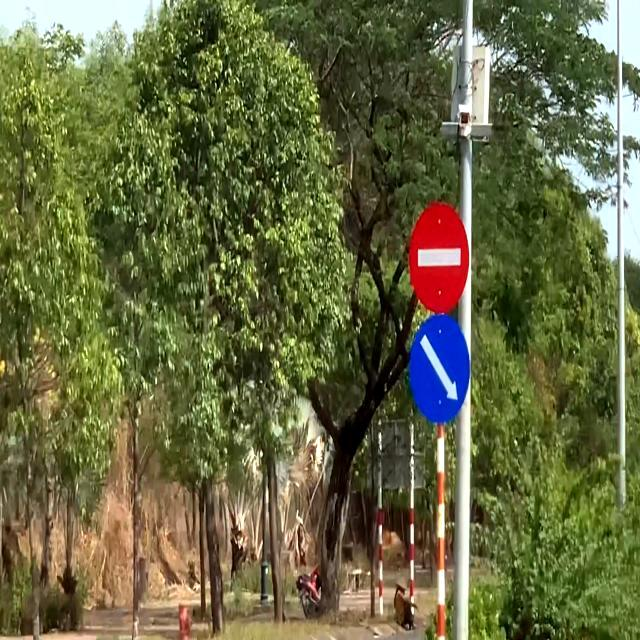Cam di nguoc chieu: (404, 194, 471, 314)
Vong chuong ngai vat sang phai: (406, 310, 472, 428)
